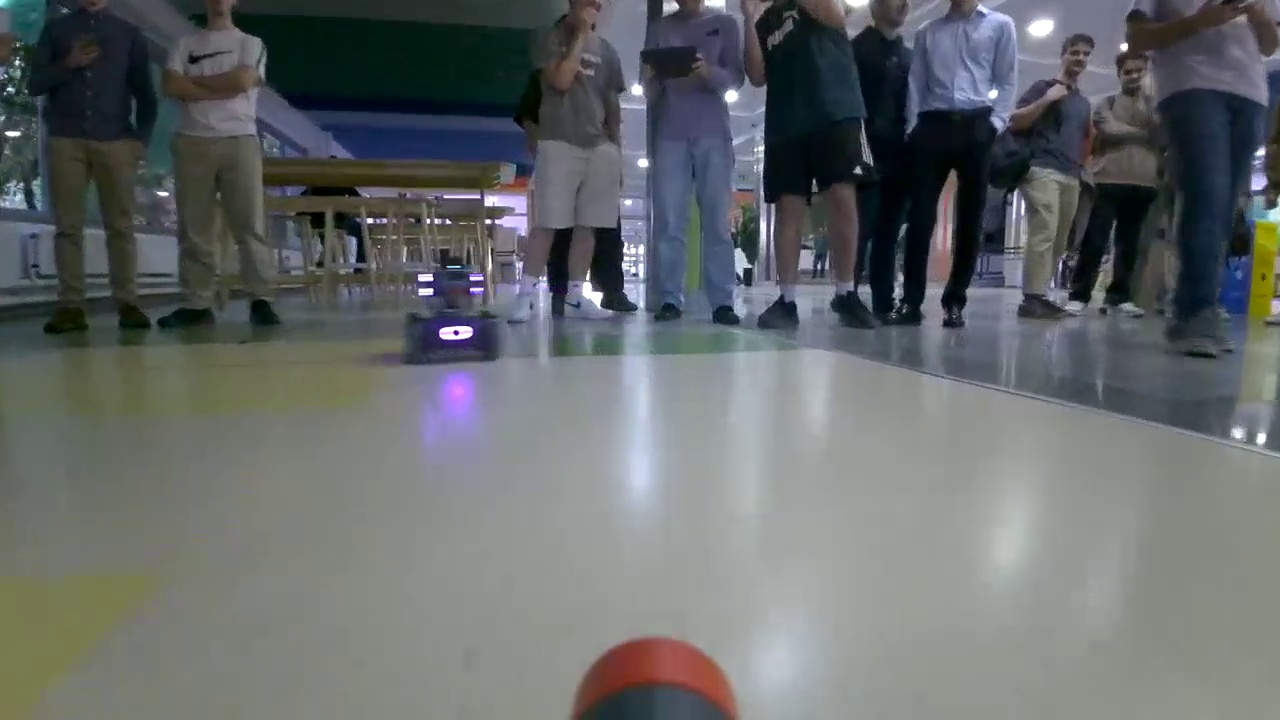robot: (402, 265, 499, 362)
